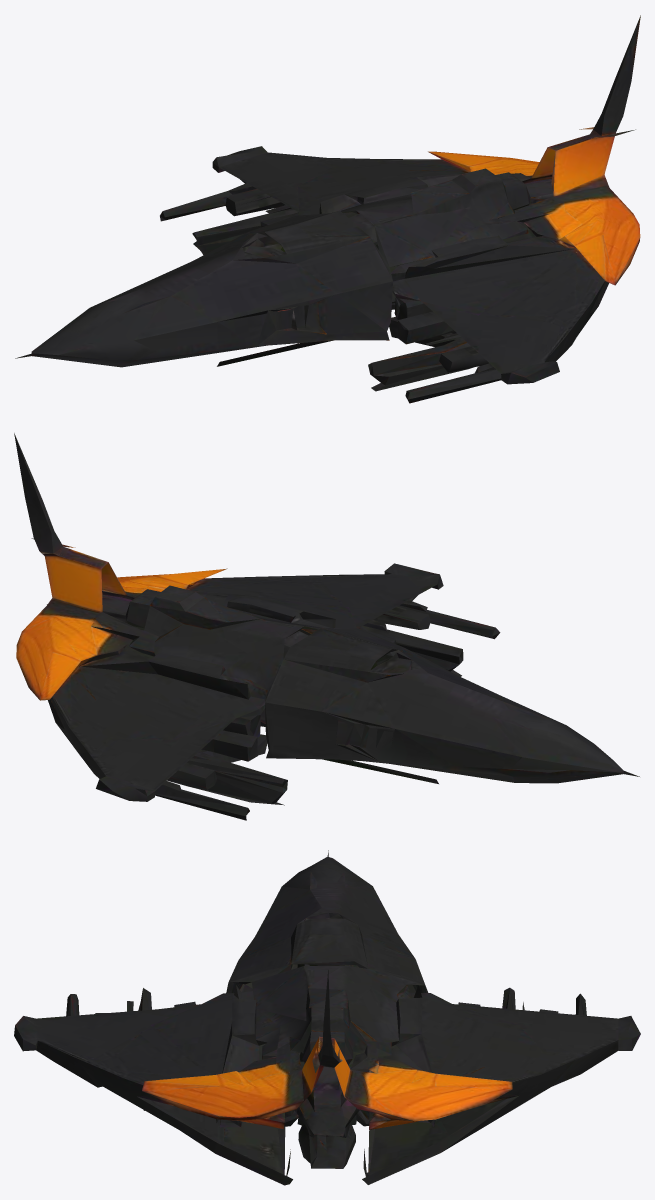
Rendered from nation-i-cruiser.glb.
3 views of the same model, one above another, from view 1: azimuth 30°, elevation 25°; view 2: azimuth 150°, elevation 25°; view 3: azimuth 270°, elevation 25° (orthographic). The views are drawn at different scales.
Size of the model in its own units: 1.89 by 0.6795 by 1.58.
Materials: 1 (1 with a texture image).
